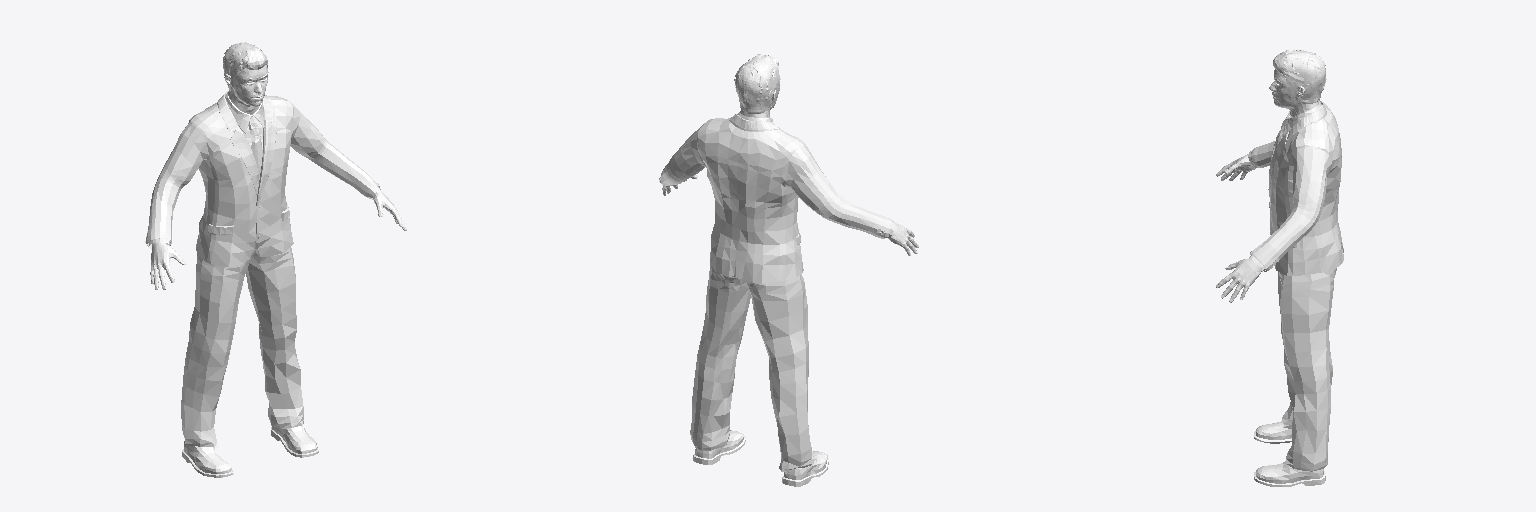
The model's file is humanAll.obj.
3 renders of one model, left to right at view 1: azimuth 30°, elevation 25°; view 2: azimuth 150°, elevation 25°; view 3: azimuth 270°, elevation 25°, orthographic.
Visible parts, largest first — view 1: human:suit01LRes, human:Body, human:classic_shoes_lres, human:mhair02; view 2: human:suit01LRes, human:mhair02, human:classic_shoes_lres, human:Body; view 3: human:suit01LRes, human:Body, human:classic_shoes_lres, human:mhair02.
Part boxes in pixels (left/top/right/bottom): human:suit01LRes: left=145, top=91, right=380, bottom=447; human:Body: left=150, top=65, right=406, bottom=289; human:classic_shoes_lres: left=182, top=425, right=318, bottom=477; human:mhair02: left=223, top=42, right=267, bottom=91; human:suit01LRes: left=659, top=112, right=893, bottom=471; human:mhair02: left=734, top=54, right=778, bottom=113; human:classic_shoes_lres: left=693, top=430, right=828, bottom=486; human:Body: left=662, top=75, right=918, bottom=255; human:suit01LRes: left=1248, top=100, right=1343, bottom=471; human:Body: left=1216, top=69, right=1318, bottom=302; human:classic_shoes_lres: left=1254, top=421, right=1325, bottom=486; human:mhair02: left=1273, top=50, right=1326, bottom=103.
Size of the model in its own units: 12.18 by 18.93 by 5.43.